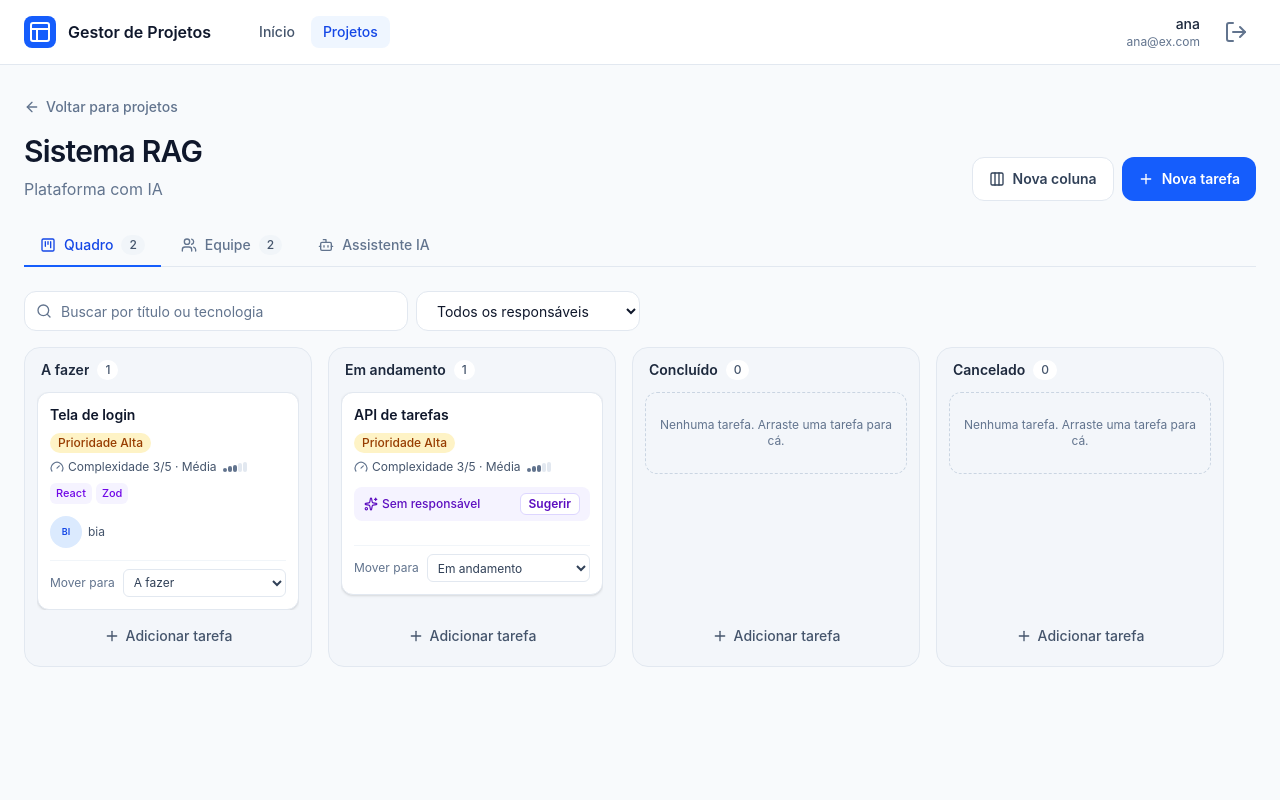
it: ProjectBoardPage — quadro › exclui tarefa apenas após confirmação
The image size is (1280, 800).
Click the button "Tela de login".
click(93, 415)  # box top-left (50, 405), bottom-right (135, 425)
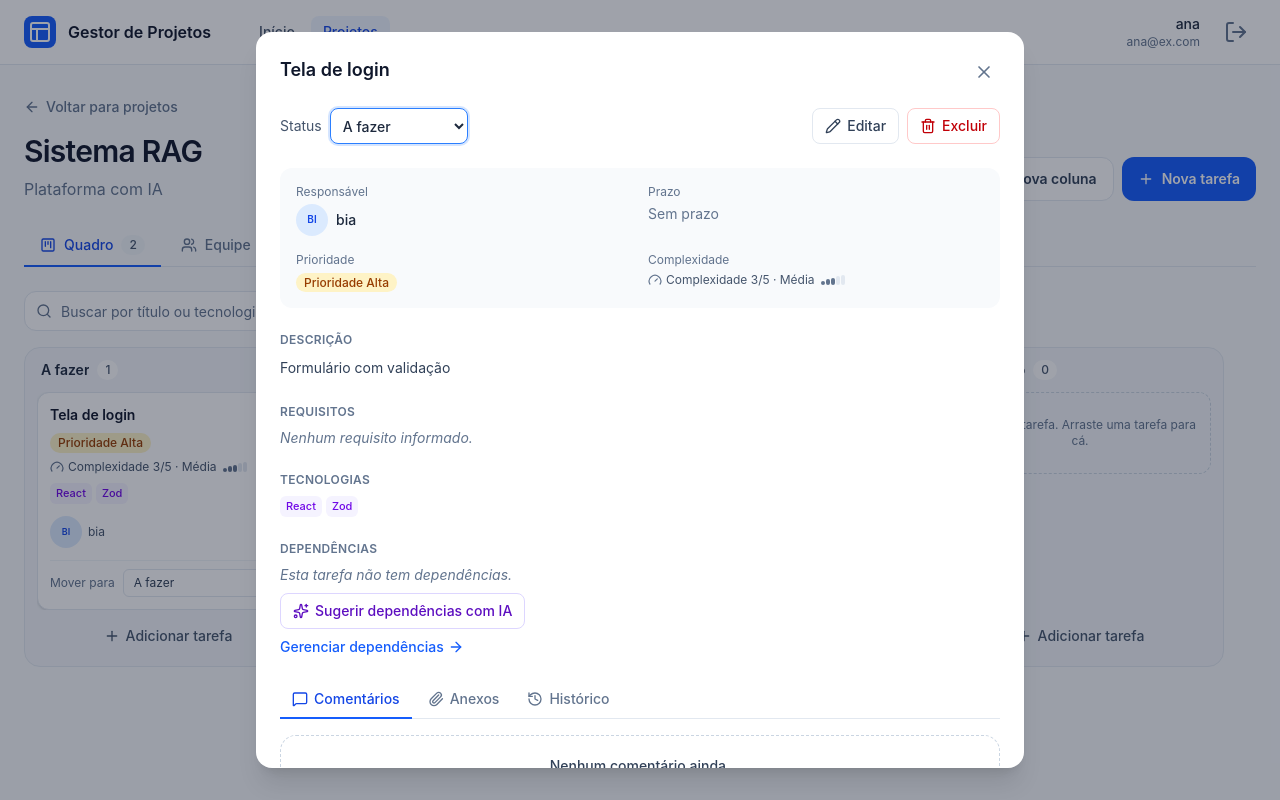
Click the button "Excluir".
click(954, 126)  # box top-left (907, 108), bottom-right (1000, 144)
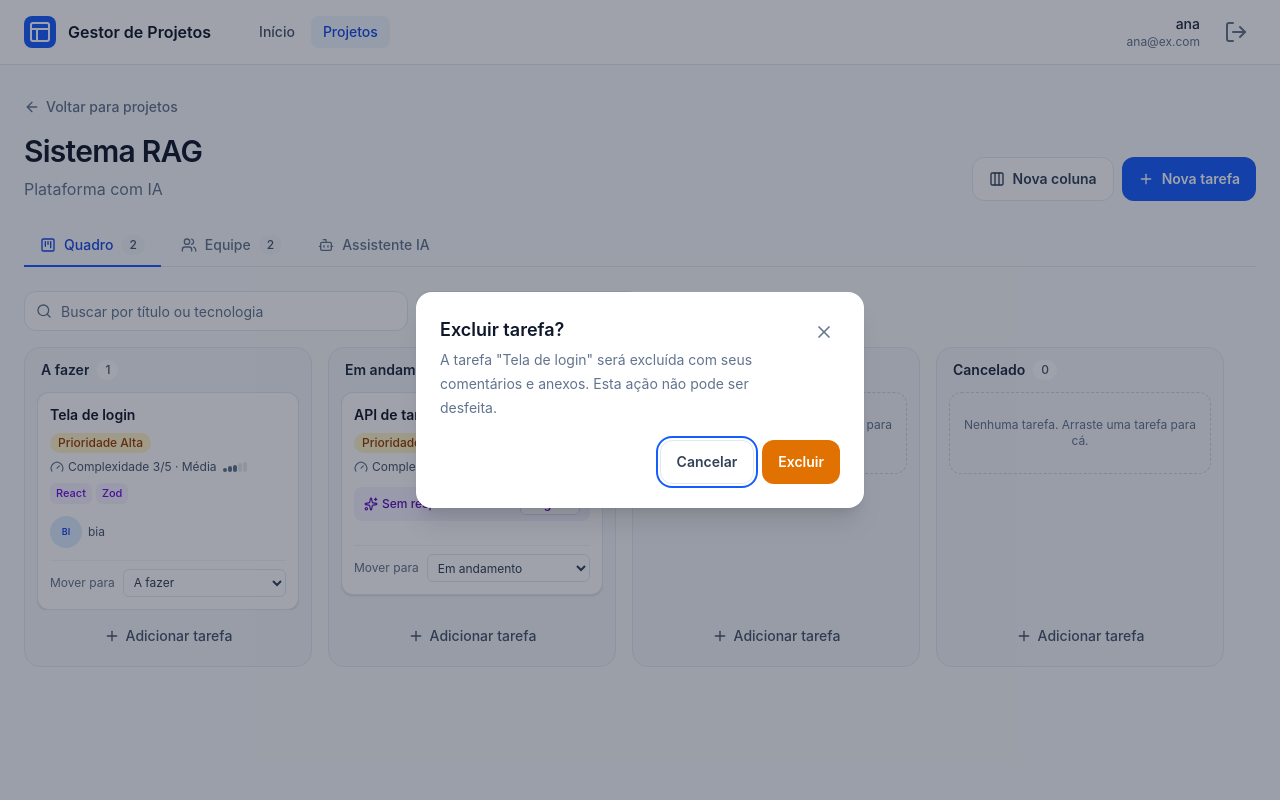
Click the button "Cancelar".
click(707, 462)  # box top-left (660, 440), bottom-right (754, 484)
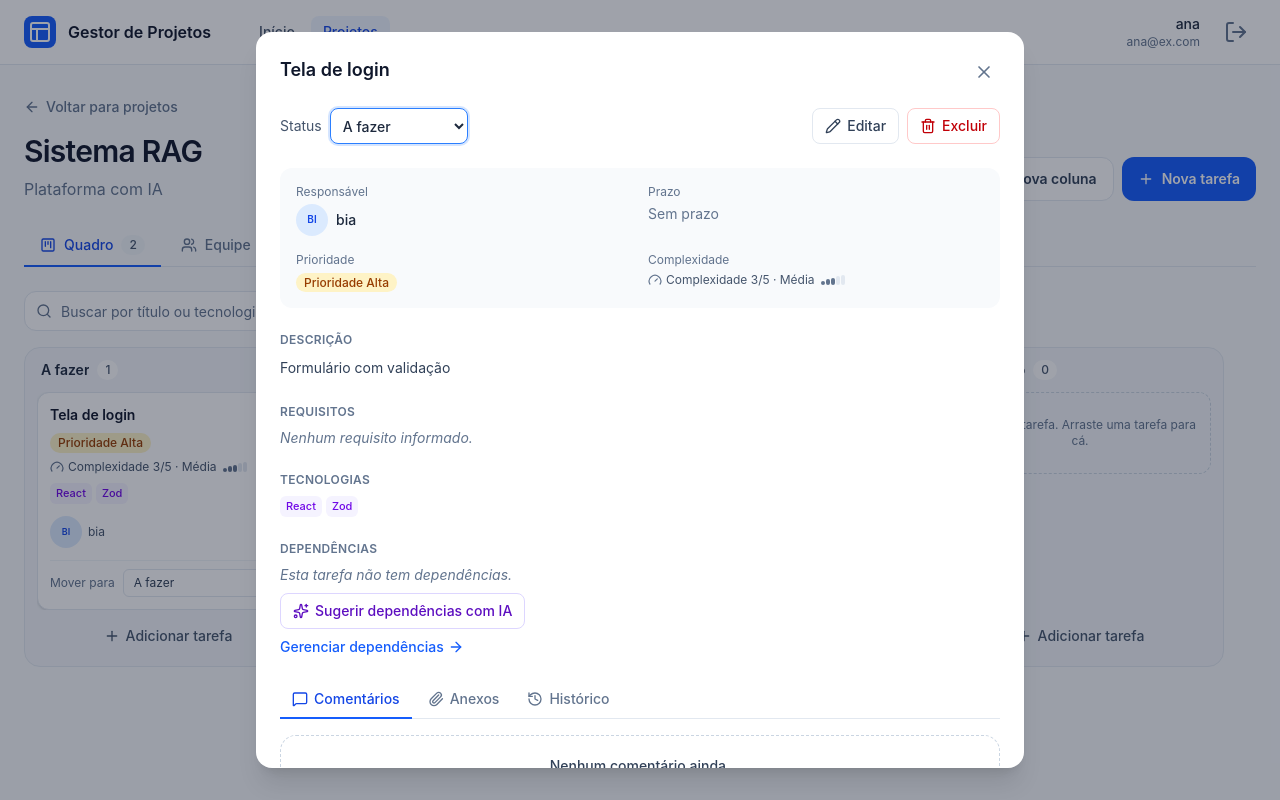
Click the button "Excluir".
click(954, 126)  # box top-left (907, 108), bottom-right (1000, 144)
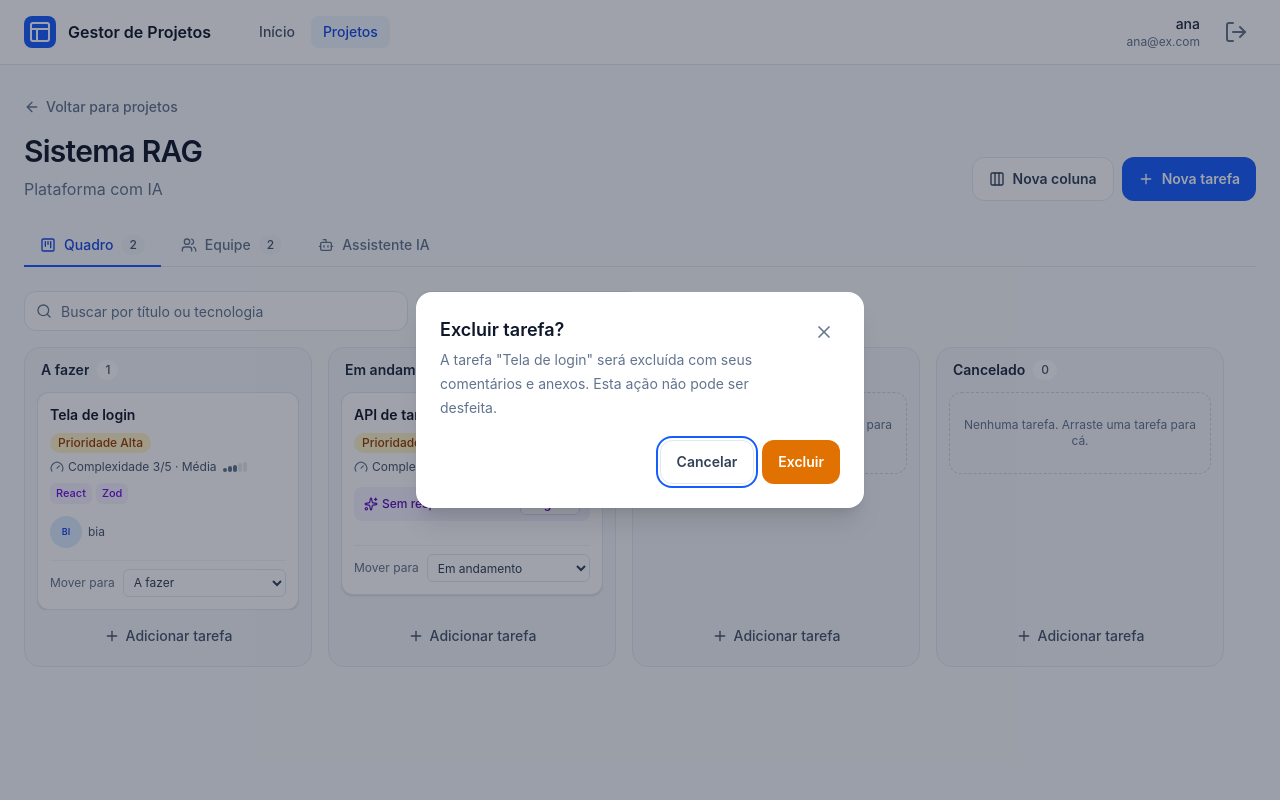
Click the button "Excluir".
click(801, 462)  # box top-left (762, 440), bottom-right (840, 484)
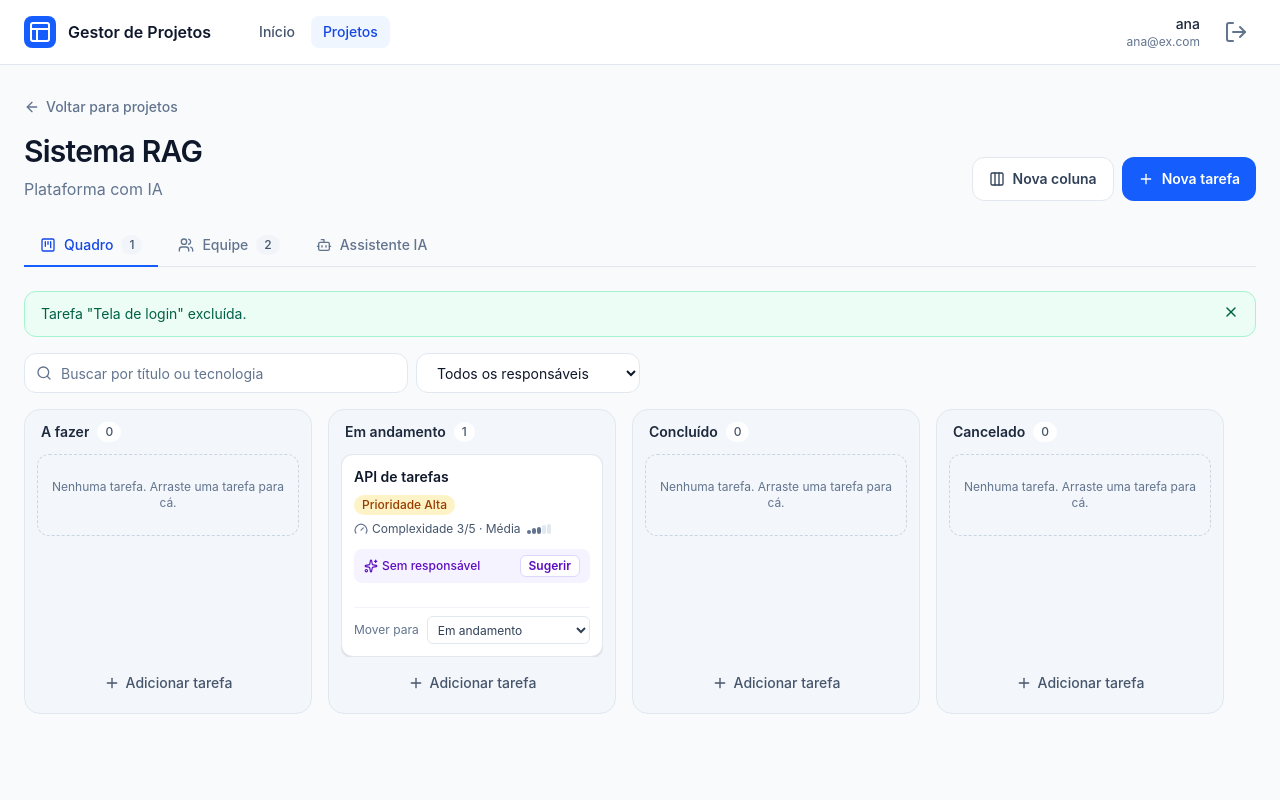
Expected: the message reads "Tarefa \"Tela de login\" excluída.", top-left (41, 305), bottom-right (246, 322)
